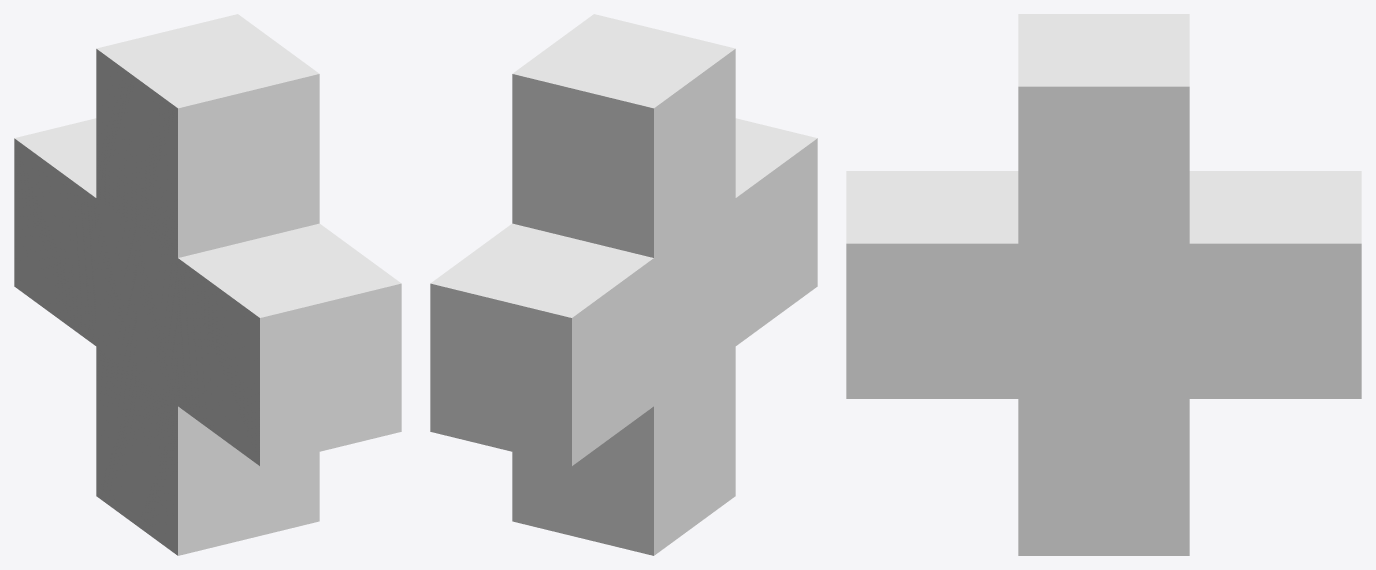
Rendered from health.fbx.
3 views of the same model, side by side, from view 1: azimuth 30°, elevation 25°; view 2: azimuth 150°, elevation 25°; view 3: azimuth 270°, elevation 25° (orthographic). The views are drawn at different scales.
Parts seen in each view (by area): view 1: Cube; view 2: Cube; view 3: Cube.
Part boxes in pixels (x1,y1,x2,y2): Cube: (14,14,401,555); Cube: (430,14,817,555); Cube: (846,14,1361,555).
Bounding box in the file's own units: 200 × 604 × 601.
